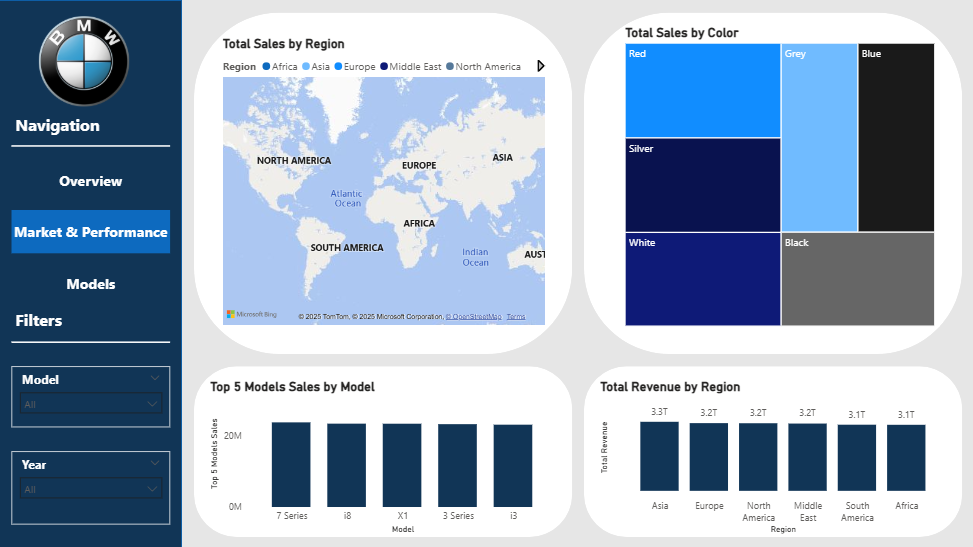

The page's visual inventory and layout, read from the dashboard file:
{"tool":"powerbi","page":{"name":" Market & Performance","canvas":[1280,720],"ordinal":1},"visuals":[{"type":"shape","box":[0,0,240,720],"z":0},{"type":"shape","box":[256,16,496,448],"z":1000},{"type":"shape","box":[768,16,496,448],"z":2000},{"type":"textbox","box":[16,144,208,48],"z":3000},{"type":"shape","box":[16,176,208,32],"z":4000},{"type":"image","box":[48,16,128,128],"z":5000},{"type":"textbox","box":[16,400,144,64],"z":6000},{"type":"shape","box":[16,432,208,32],"z":7000},{"type":"slicer","fields":{"Values":["BMW sales data.Model"]},"box":[16,480,208,80],"z":8000},{"type":"slicer","fields":{"Values":["BMW sales data.Year"]},"box":[16,592,208,96],"z":9000},{"type":"shape","box":[768,480,496,224],"z":10000},{"type":"shape","box":[256,480,496,224],"z":11000},{"type":"treemap","title":"Total Sales by Color","fields":{"Group":["BMW sales data.Color"],"Values":["BMW sales data.Total Sales Volume"]},"box":[816,32,416,400],"z":12000},{"type":"columnChart","fields":{"Category":["BMW sales data.Region"],"Y":["BMW sales data.Total Revenue"]},"box":[784,496,464,208],"z":13000},{"type":"filledMap","title":"Total Sales by Region","fields":{"Series":["BMW sales data.Region"]},"box":[288,48,432,384],"z":14000},{"type":"columnChart","fields":{"Category":["BMW sales data.Model"],"Y":["BMW sales data.Total Sales Volume"]},"box":[272,496,464,208],"z":15000},{"type":"pageNavigator","box":[16,208,208,192],"z":16000}]}

Visuals, with their boxes in screenshot pixels (x1, y1, x2, y2), scaled from the page's 1280x720 canvas onto the 973x547 screenshot:
shape: 0 0 182 546
shape: 195 12 572 353
shape: 584 12 961 353
textbox: 12 109 170 146
shape: 12 134 170 158
image: 36 12 134 109
textbox: 12 304 122 353
shape: 12 328 170 353
slicer - BMW sales data.Model: 12 365 170 425
slicer - BMW sales data.Year: 12 450 170 523
shape: 584 365 961 535
shape: 195 365 572 535
"Total Sales by Color" treemap: 620 24 937 328
columnChart - BMW sales data.Region x BMW sales data.Total Revenue: 596 377 949 535
"Total Sales by Region" filledMap: 219 36 547 328
columnChart - BMW sales data.Model x BMW sales data.Total Sales Volume: 207 377 559 535
pageNavigator: 12 158 170 304
